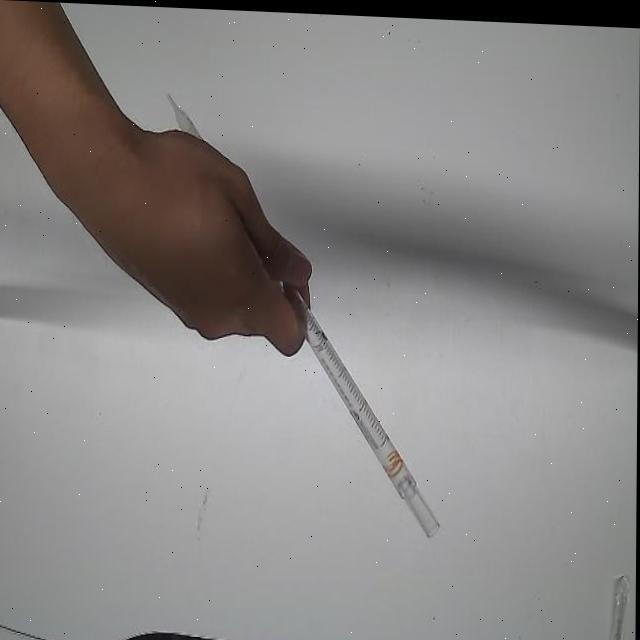Serelogical Pipet 10 mL: (159, 88, 450, 544)
